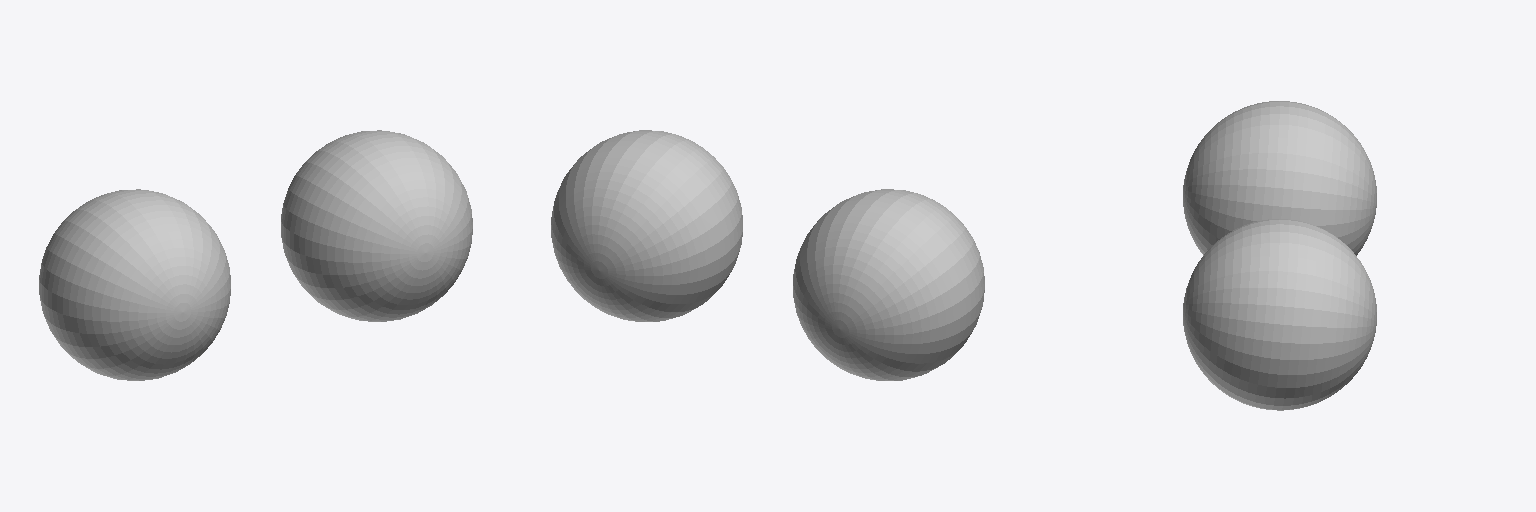
Rendered from rabit_eyes.obj.
3 renders of one model, left to right at view 1: azimuth 30°, elevation 25°; view 2: azimuth 150°, elevation 25°; view 3: azimuth 270°, elevation 25°, orthographic.
Size of the model in its own units: 0.2146 by 0.0873 by 0.0886.